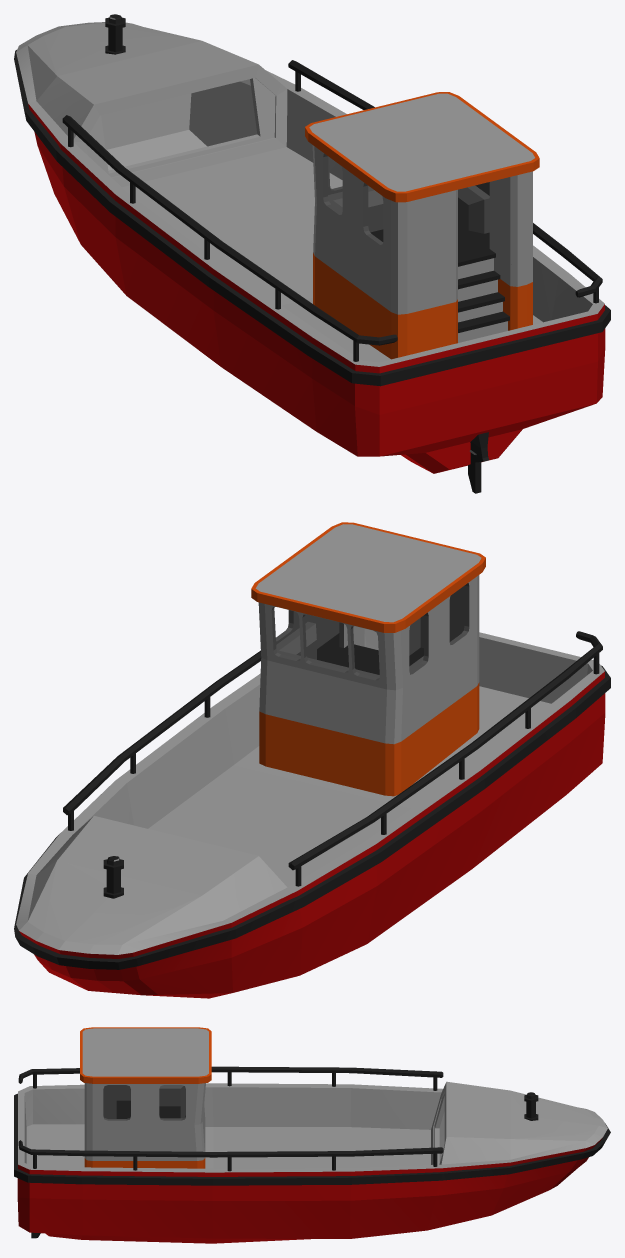
Rendered from TopQulityBoat.FBX.
3 views of the same model, one above another, from view 1: azimuth 30°, elevation 25°; view 2: azimuth 150°, elevation 25°; view 3: azimuth 270°, elevation 25° (orthographic). The views are drawn at different scales.
Parts seen in each view (by area): view 1: fisher_1; view 2: fisher_1; view 3: fisher_1.
Part boxes in pixels (x1,y1,x2,y2): fisher_1: (14,14,610,493); fisher_1: (14,522,610,998); fisher_1: (14,1027,610,1243).
Size of the model in its own units: 128 by 125 by 347.
